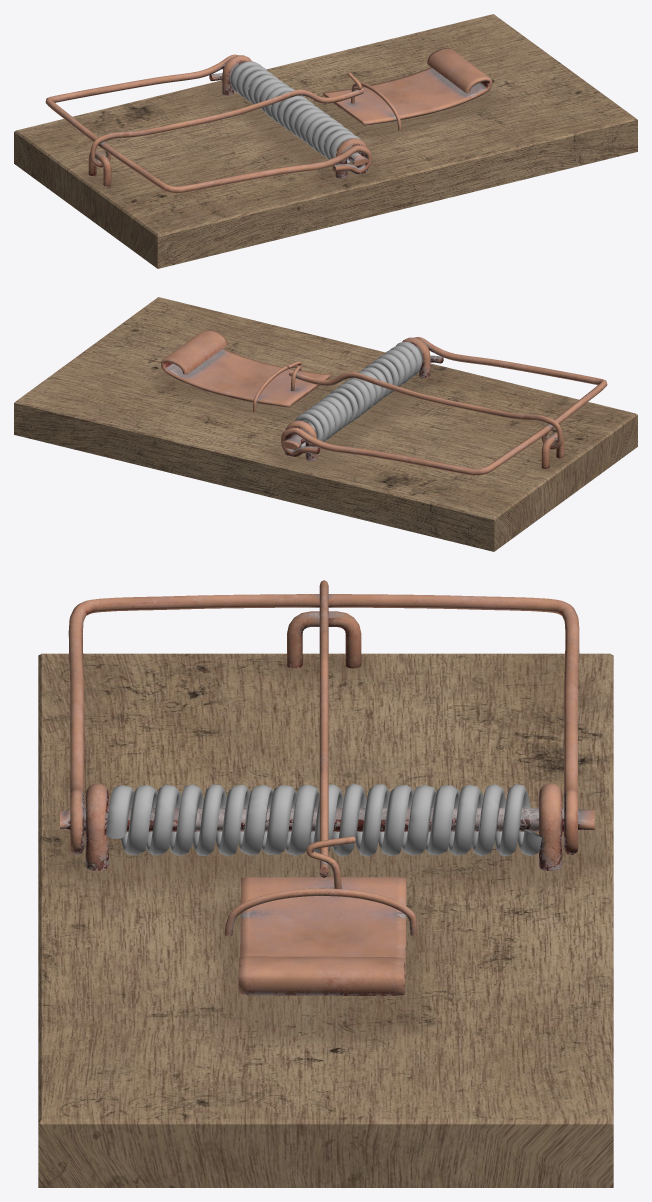
Rendered from mousetrap.fbx.
3 renders of one model, top to bottom at view 1: azimuth 30°, elevation 25°; view 2: azimuth 150°, elevation 25°; view 3: azimuth 270°, elevation 25°, orthographic. The views are drawn at different scales.
Visible parts, largest first — view 1: Layer_0; view 2: Layer_0; view 3: Layer_0.
Part boxes in pixels (<box>): Layer_0: <box>14,14,637,268</box>; Layer_0: <box>14,297,637,551</box>; Layer_0: <box>38,580,613,1187</box>.
Bounding box in the file's own units: 200 × 30.82 × 104.
